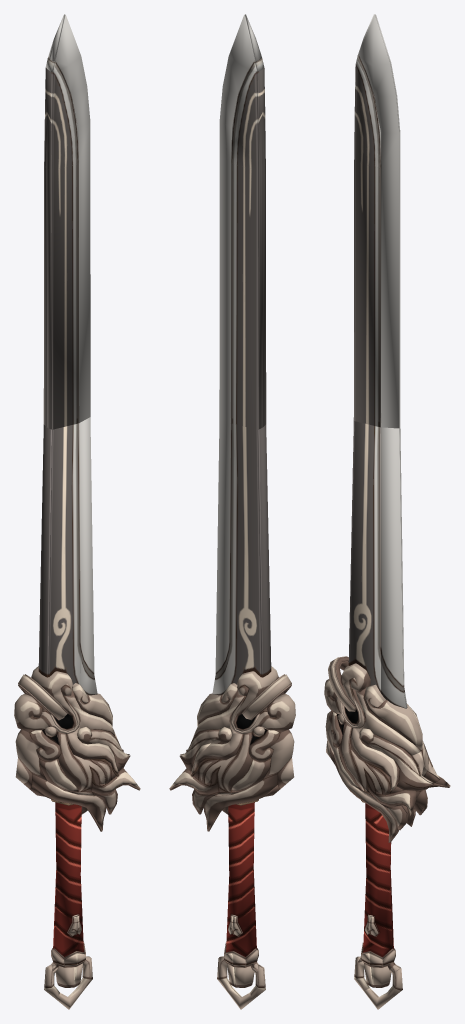
The model's file is Lionroar.fbx.
The picture shows the model from 3 angles, left to right: view 1: azimuth 30°, elevation 25°; view 2: azimuth 150°, elevation 25°; view 3: azimuth 330°, elevation 25°; orthographic projection.
Parts seen in each view (by area): view 1: Lions Roar_mesh; view 2: Lions Roar_mesh; view 3: Lions Roar_mesh.
Boxes of the visible parts, <box> form: Lions Roar_mesh: <box>14,14,140,1009</box>; Lions Roar_mesh: <box>169,14,295,1009</box>; Lions Roar_mesh: <box>324,14,450,1009</box>.
Size of the model in its own units: 17.35 by 147 by 10.67.
